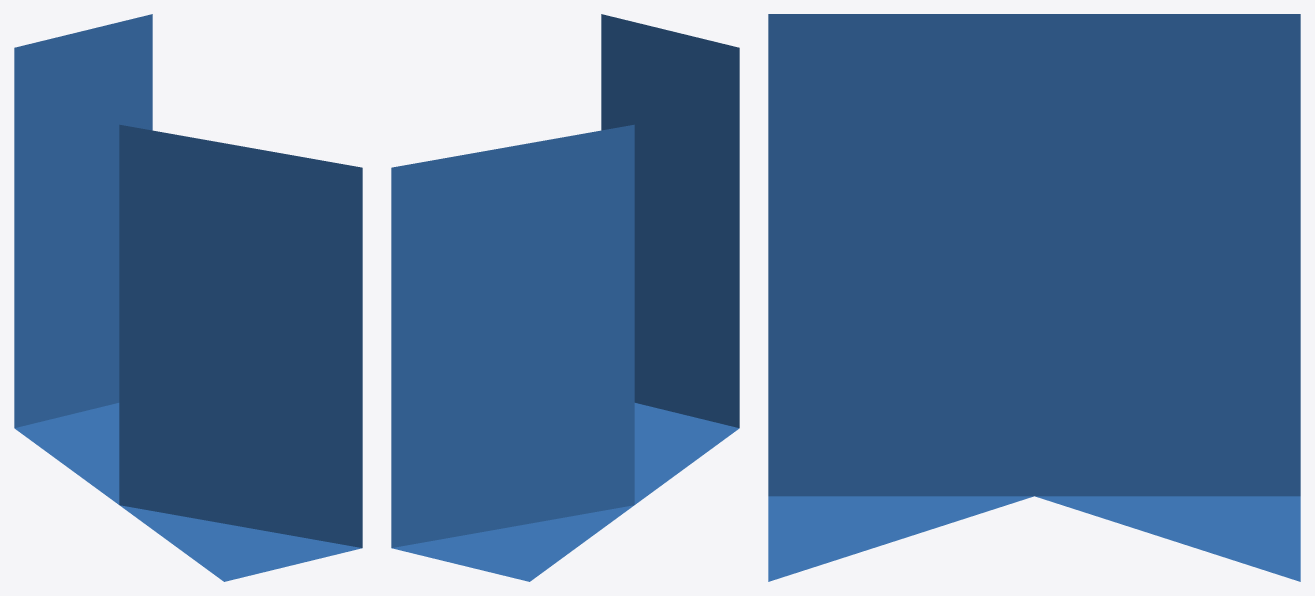
Rendered from r3c7_border_blue.gltf.
The picture shows the model from 3 angles, left to right: view 1: azimuth 30°, elevation 25°; view 2: azimuth 150°, elevation 25°; view 3: azimuth 270°, elevation 25°; orthographic projection. The views are drawn at different scales.
Parts seen in each view (by area): view 1: r3c7_border_blue; view 2: r3c7_border_blue; view 3: r3c7_border_blue.
Boxes of the visible parts, box(x1,y1,x2,y2) form: r3c7_border_blue: box(14, 14, 362, 581); r3c7_border_blue: box(391, 14, 739, 581); r3c7_border_blue: box(768, 14, 1300, 581).
Size of the model in its own units: 0.8 by 2.1 by 2.1.
1 material, 1 textured.
